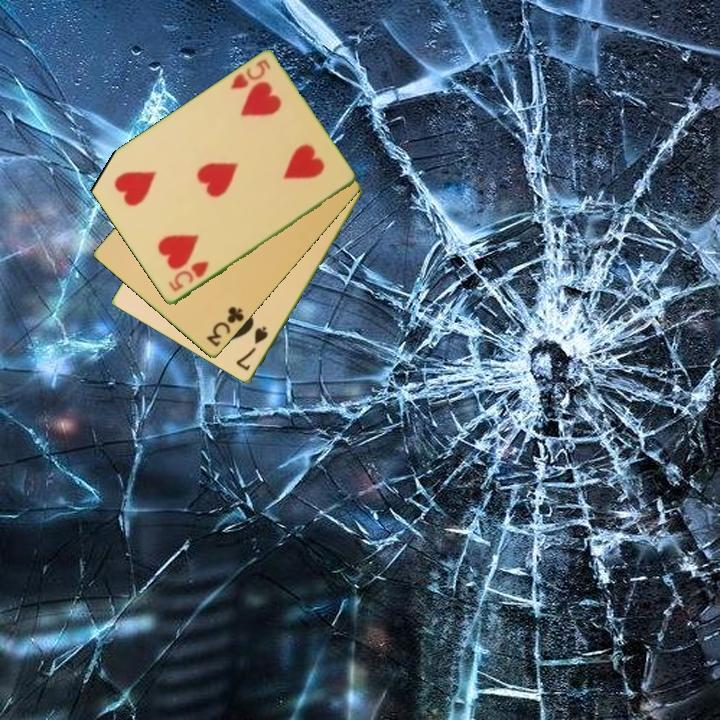3c: (203, 303, 247, 350)
5h: (164, 258, 212, 295), (226, 56, 274, 92)
7s: (233, 323, 271, 374)
